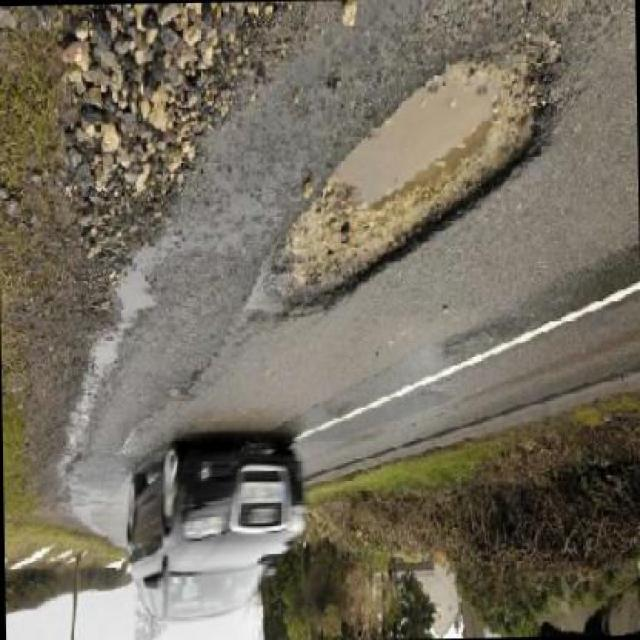pothole1: (239, 58, 559, 324)
